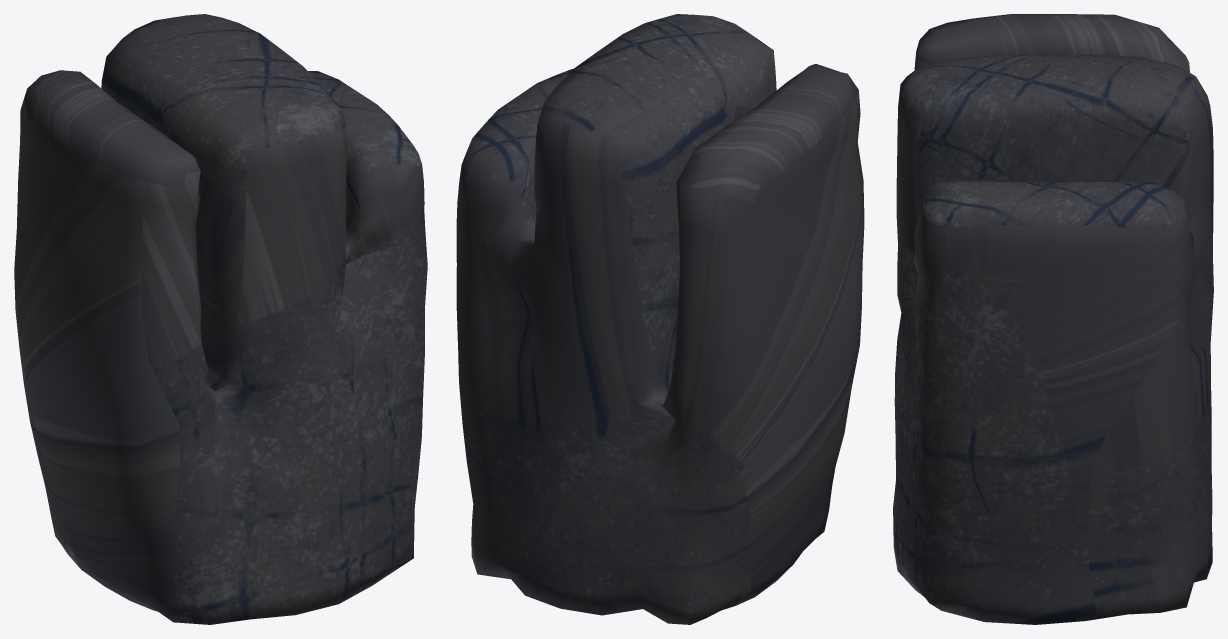
File: obstacle_moyen2.OBJ
3 renders of one model, left to right at view 1: azimuth 30°, elevation 25°; view 2: azimuth 150°, elevation 25°; view 3: azimuth 270°, elevation 25°, orthographic.
Visible parts, largest first — view 1: obstacle_moyen2:Group44358; view 2: obstacle_moyen2:Group44358; view 3: obstacle_moyen2:Group44358.
Part boxes in pixels (box(x1,y1,x2,y2)): obstacle_moyen2:Group44358: box(14, 14, 427, 624); obstacle_moyen2:Group44358: box(456, 14, 864, 624); obstacle_moyen2:Group44358: box(893, 14, 1213, 624).
Size of the model in its own units: 1311 by 1874 by 1109.
Materials: 1 (1 with a texture image).
